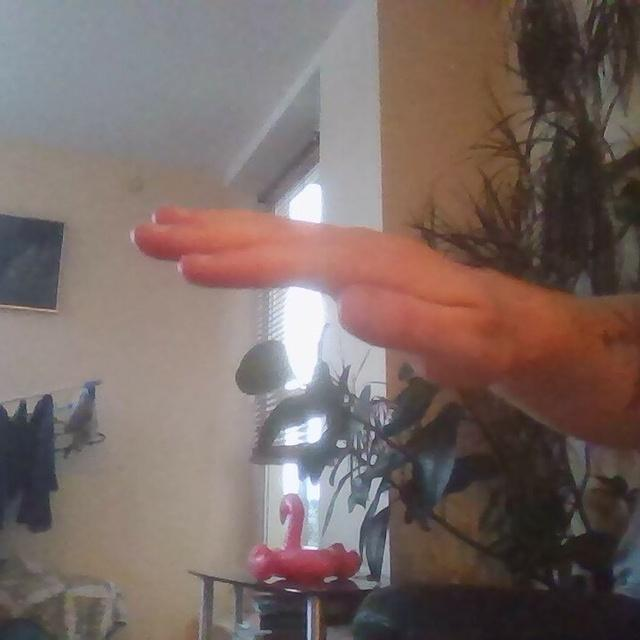papper: (130, 199, 539, 396)
